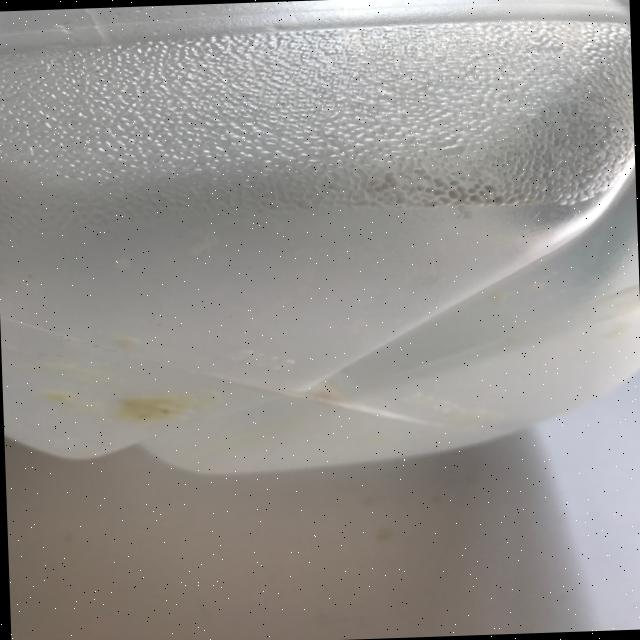plastic: (0, 1, 640, 481)
